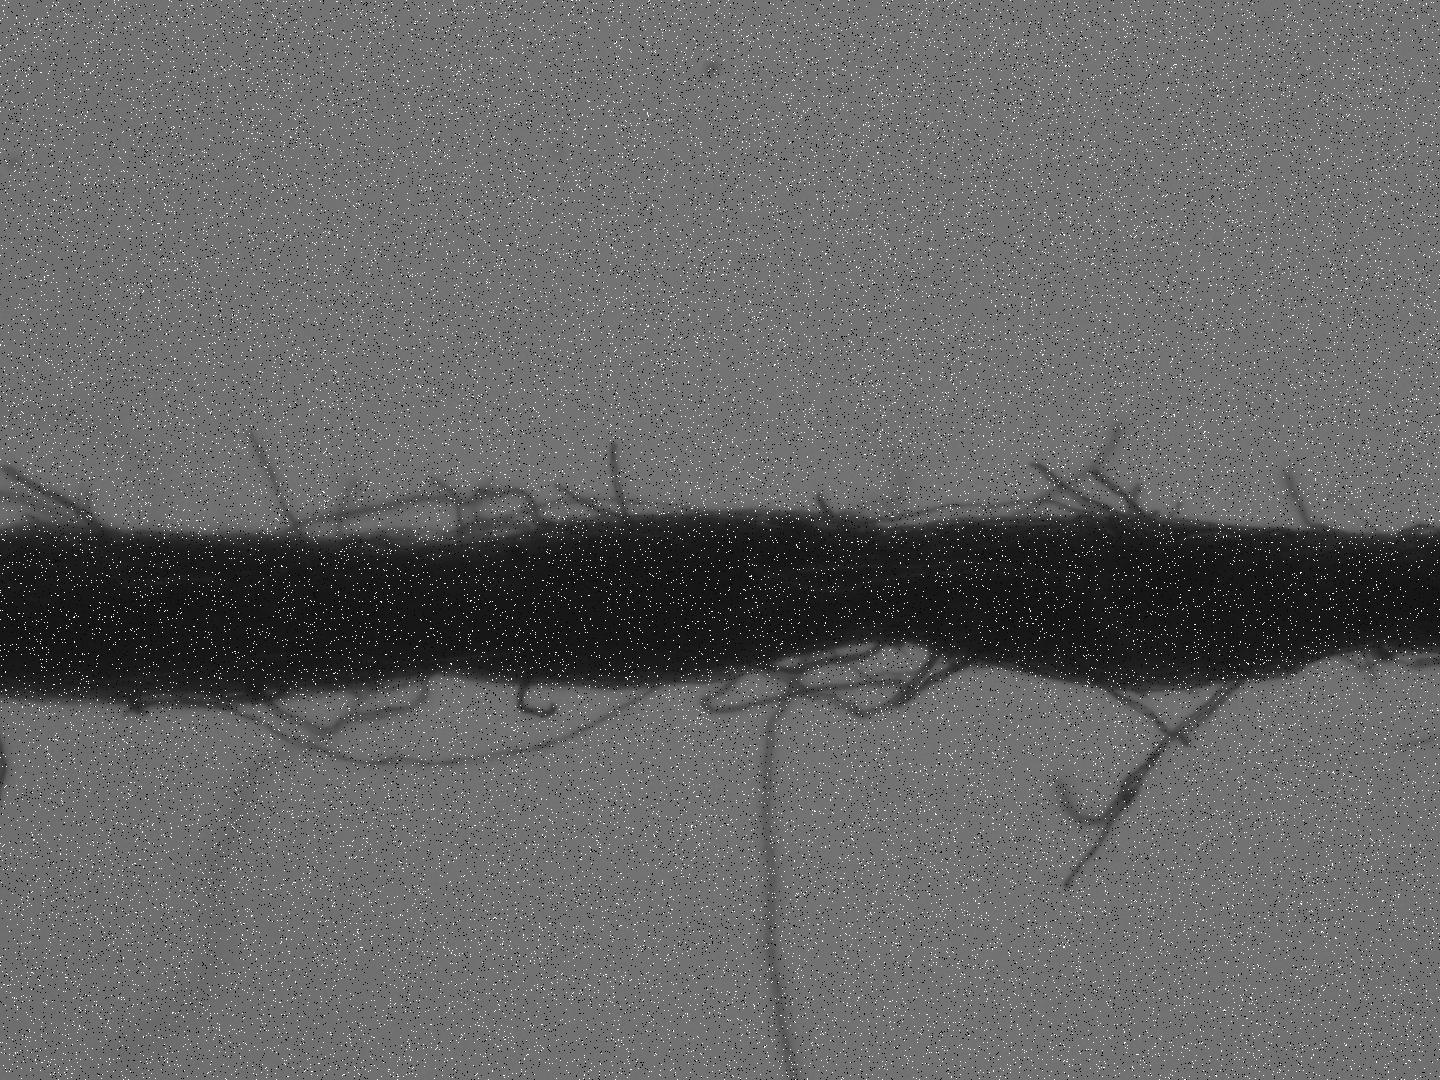loop_fiber: (283, 481, 544, 556), (701, 647, 979, 715), (770, 636, 934, 720), (253, 675, 432, 739), (857, 498, 1106, 534), (759, 638, 892, 677), (347, 528, 478, 555), (434, 515, 526, 551), (1338, 643, 1412, 677)
protruding_fiber: (1092, 464, 1166, 528), (609, 428, 635, 528)
